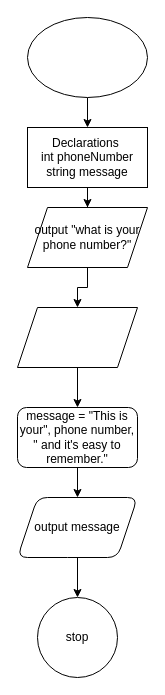
Image size: 165x695. Some labels were removed from this diagram. Here are the shapes that lost their labels. From the top down, the centre of each, then its label:
[87,57]: Start
[77,337]: input phone number
